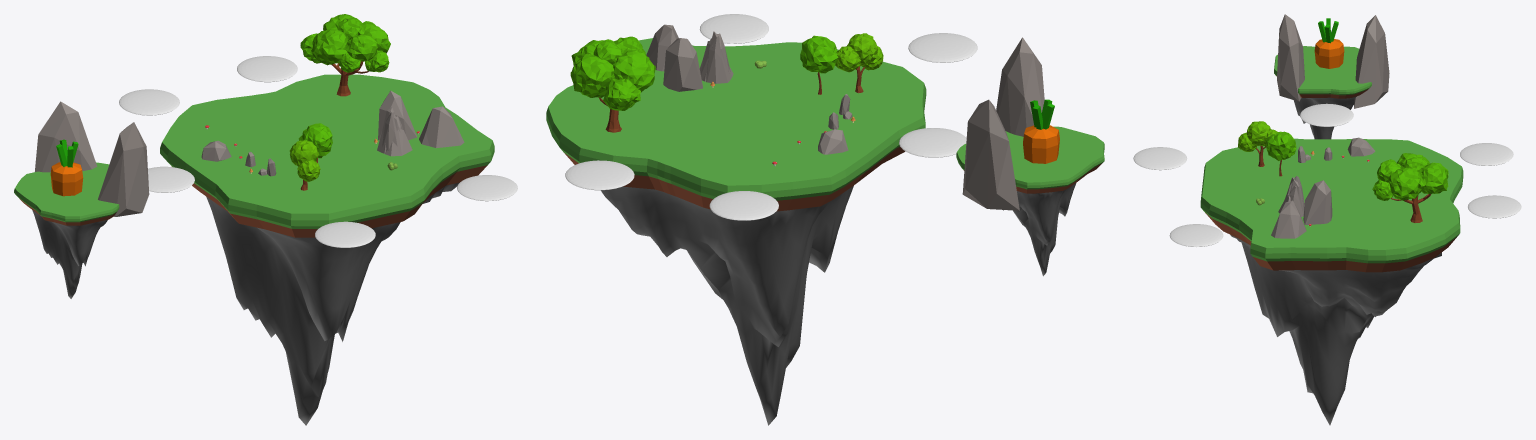
File: niveau3.glb
3 views of the same model, side by side, from view 1: azimuth 30°, elevation 25°; view 2: azimuth 150°, elevation 25°; view 3: azimuth 270°, elevation 25° (orthographic). The views are drawn at different scales.
Parts seen in each view (by area): view 1: Cylindre, Landscape, Tree.006, Cylindre.002, Rock4.020, Landscape.001, Rock4.019, Sphère.001, Sphère.002, Sphère.004, Sphère.003, Rock4.009 (+7 smaller); view 2: Cylindre, Landscape, Tree.006, Rock4.019, Cylindre.002, Rock4.020, Landscape.001, Rock4.014, Sphère.002, Sphère.001, Sphère.004, Sphère (+7 smaller); view 3: Cylindre, Landscape, Tree.006, Cylindre.002, Rock4.019, Rock4.020, Rock4.014, Sphère.002, Sphère.004, Sphère.001, Sphère.003, Sphère (+7 smaller).
Part boxes in pixels (<box>): Cylindre: <box>160,74,494,237</box>; Landscape: <box>206,182,459,425</box>; Tree.006: <box>300,14,390,96</box>; Cylindre.002: <box>14,162,119,225</box>; Rock4.020: <box>98,122,149,216</box>; Landscape.001: <box>32,210,107,298</box>; Rock4.019: <box>35,101,97,172</box>; Sphère.001: <box>119,89,179,115</box>; Sphère.002: <box>237,56,297,82</box>; Sphère.004: <box>315,221,375,247</box>; Sphère.003: <box>457,175,517,201</box>; Rock4.009: <box>419,106,464,148</box>; Cylindre: <box>546,38,926,211</box>; Landscape: <box>601,186,853,425</box>; Tree.006: <box>570,36,655,132</box>; Rock4.019: <box>962,99,1019,210</box>; Cylindre.002: <box>956,126,1104,193</box>; Rock4.020: <box>996,37,1044,136</box>; Landscape.001: <box>1003,183,1076,276</box>; Rock4.014: <box>663,38,702,91</box>; Sphère.002: <box>565,160,634,190</box>; Sphère.001: <box>709,191,778,220</box>; Sphère.004: <box>908,33,977,62</box>; Sphère: <box>899,128,966,157</box>; Cylindre: <box>1200,138,1463,272</box>; Landscape: <box>1230,235,1441,425</box>; Tree.006: <box>1372,153,1448,222</box>; Cylindre.002: <box>1274,46,1371,98</box>; Rock4.019: <box>1354,15,1389,108</box>; Rock4.020: <box>1277,14,1304,101</box>; Rock4.014: <box>1303,180,1332,224</box>; Sphère.002: <box>1468,195,1521,218</box>; Sphère.004: <box>1133,147,1187,170</box>; Sphère.001: <box>1460,143,1513,165</box>; Sphère.003: <box>1169,224,1223,246</box>; Sphère: <box>1300,103,1353,126</box>.
Bounding box in the file's own units: 178 × 144 × 155.
